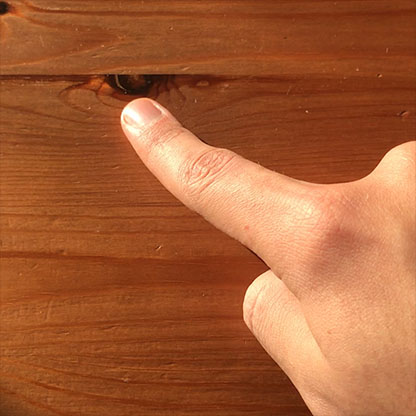fingertip: (113, 91, 173, 143)
